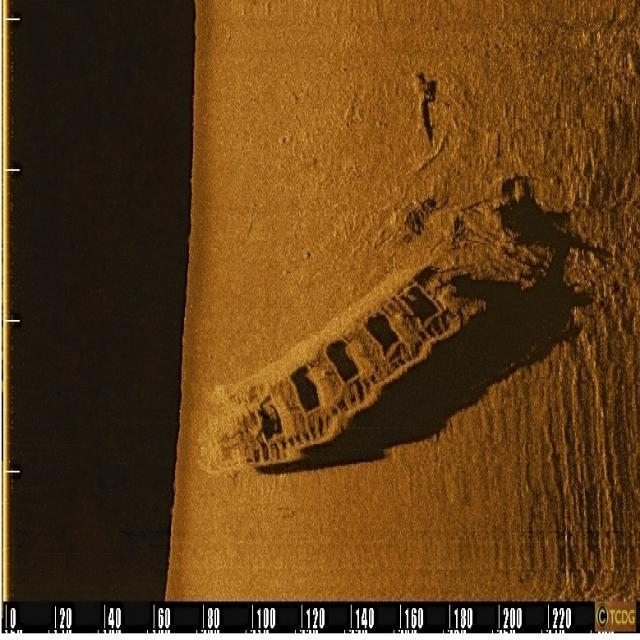shipwreck: (206, 256, 490, 472)
